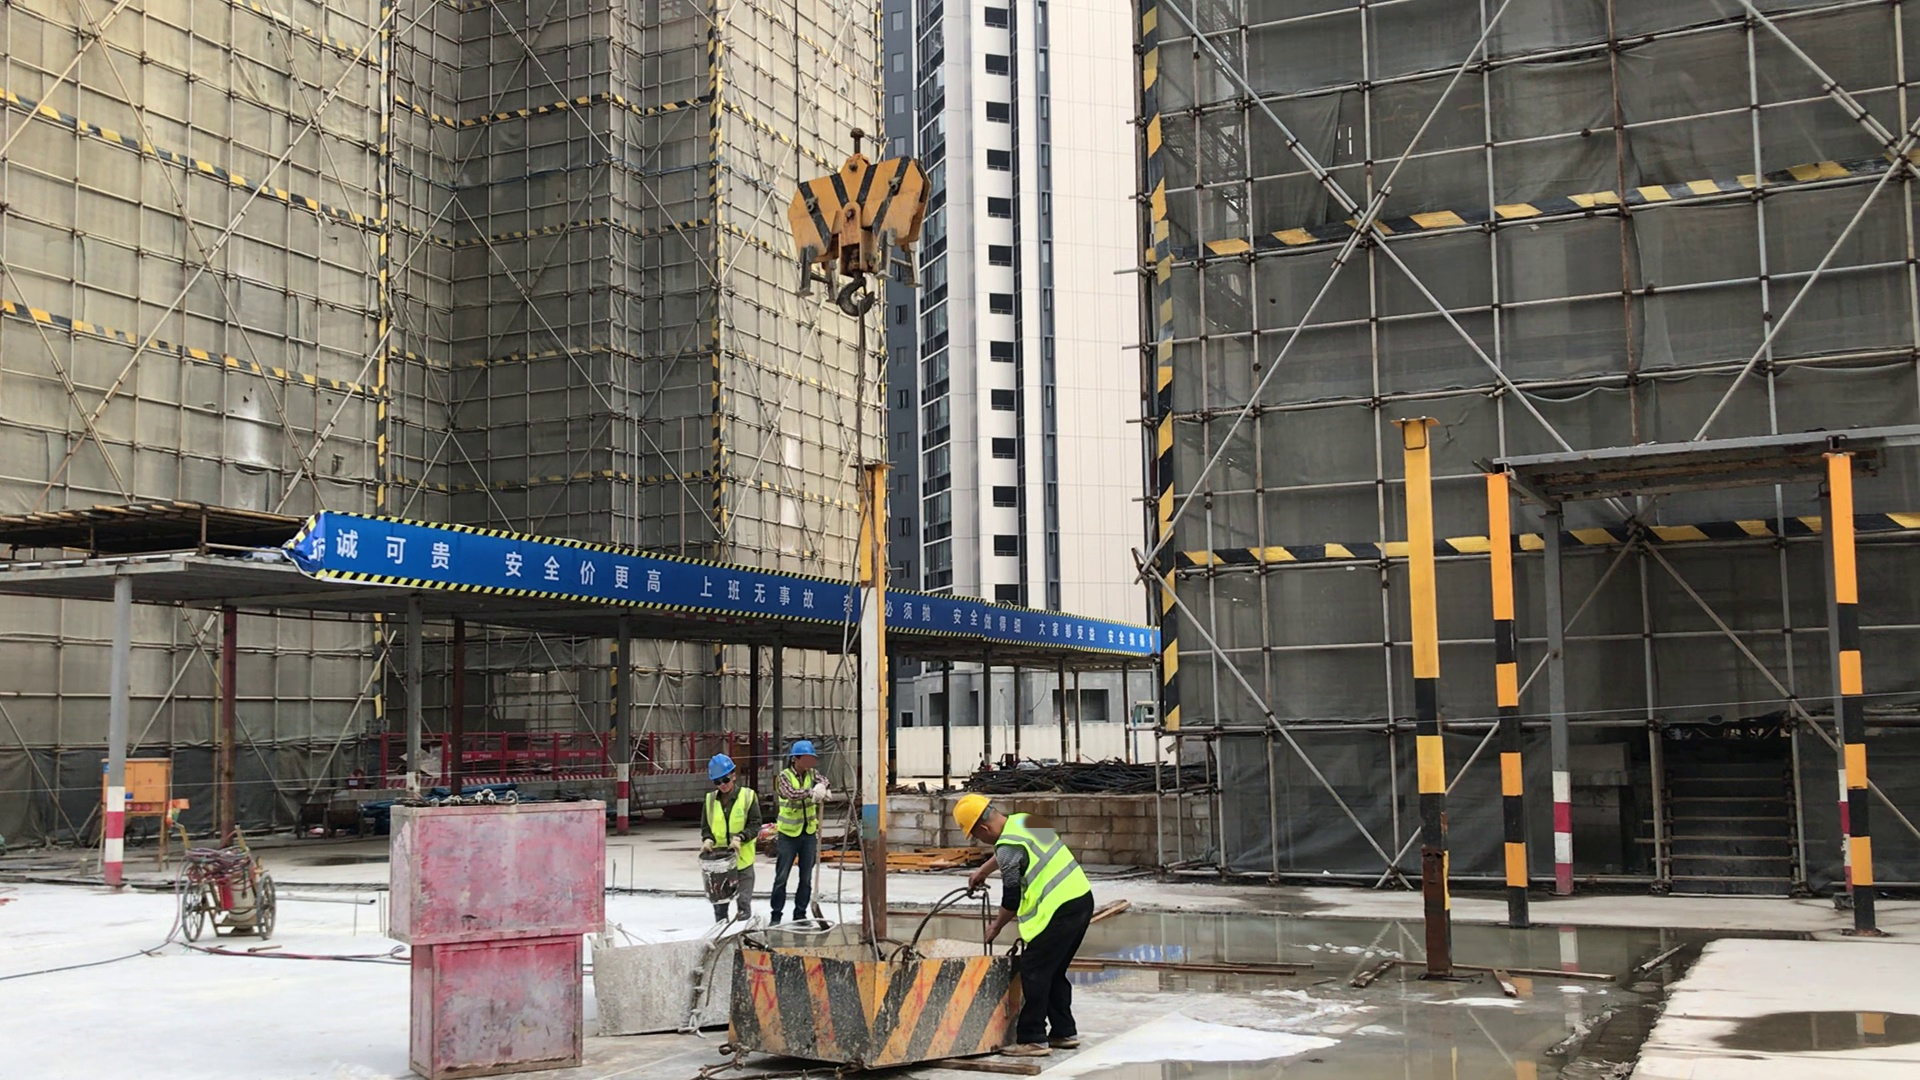ebox: (130, 748, 170, 875)
fence: (325, 513, 862, 626), (888, 591, 1154, 663), (466, 728, 608, 780), (649, 727, 702, 777)
handcart: (167, 819, 284, 939)
helmet: (949, 793, 993, 833), (706, 755, 738, 783), (788, 742, 816, 759)
hook: (782, 128, 933, 317)
hopper: (726, 926, 999, 1076), (588, 927, 728, 1038)
person: (949, 793, 1099, 1063), (695, 753, 767, 926), (768, 740, 834, 929)
vest: (991, 813, 1095, 943), (704, 785, 758, 875), (777, 767, 819, 838)
